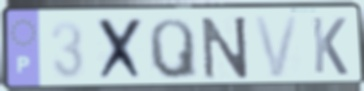3: (49, 19, 88, 82)
K: (310, 15, 350, 78)
N: (199, 14, 252, 82)
Q: (146, 16, 201, 82)
V: (251, 13, 302, 80)
X: (96, 15, 147, 84)
